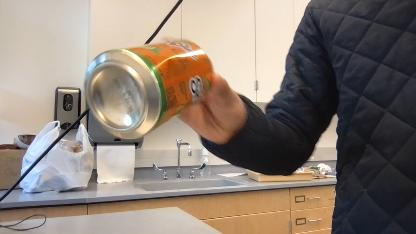Can: (82, 36, 220, 142)
